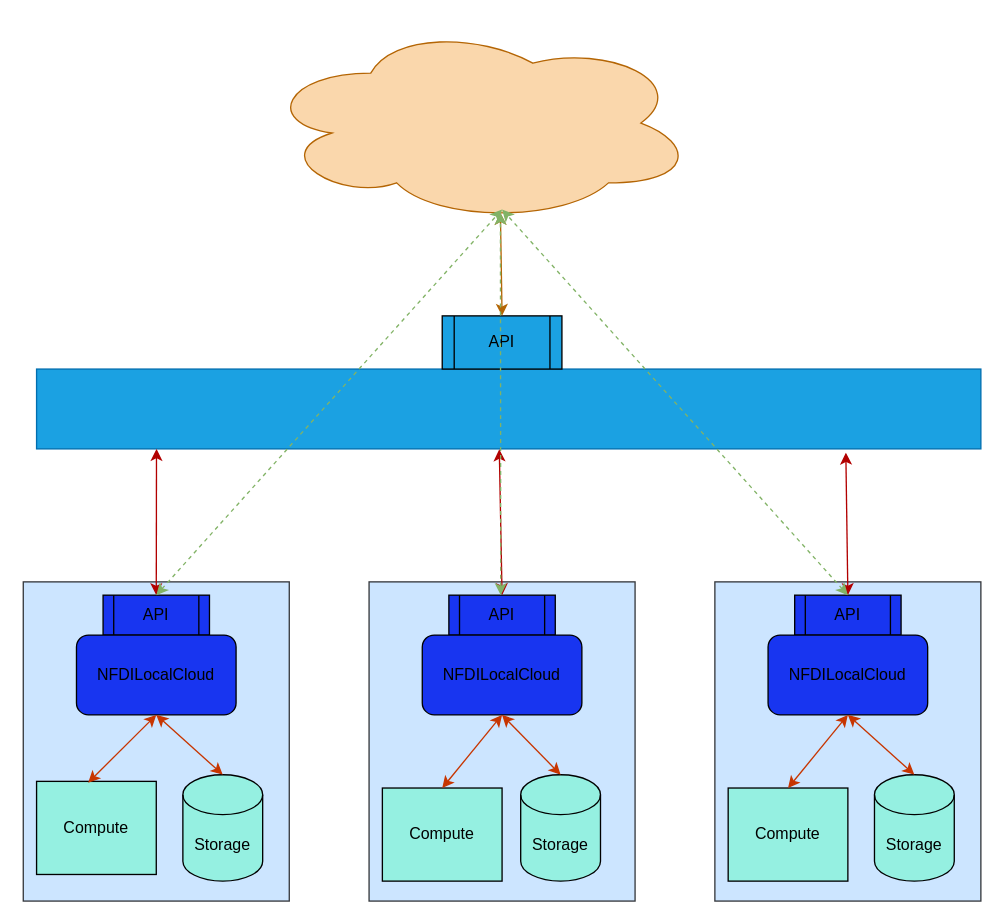
The diagram is 1004 pixels wide and 924 high, and some of its shapes have lost their labels. Each missing label, with the box of its shape:
NFDICloudMiddleware: (35, 368, 981, 449)
Semantic applications Data integration tooling ...: (261, 22, 695, 223)
